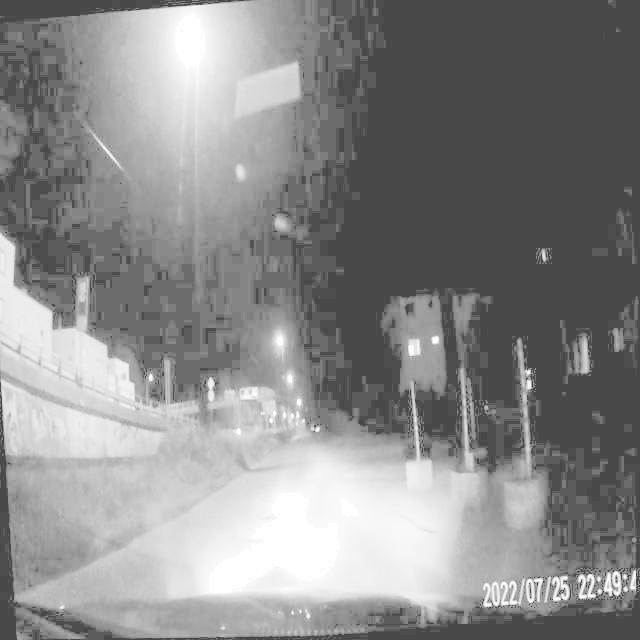Pothole: (399, 502, 450, 542), (257, 496, 290, 532)
